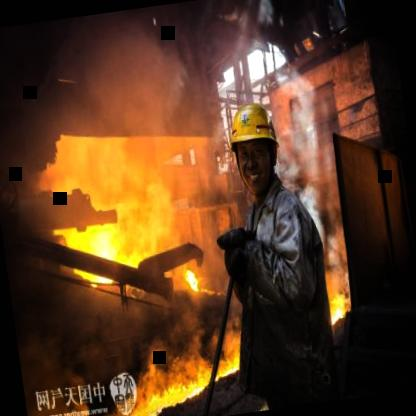helmet: (220, 92, 288, 201)
